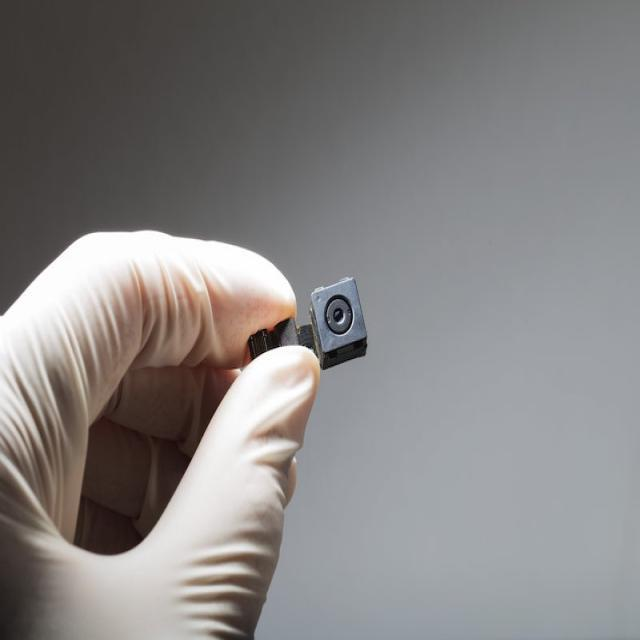hidden camera: (302, 282, 372, 354)
